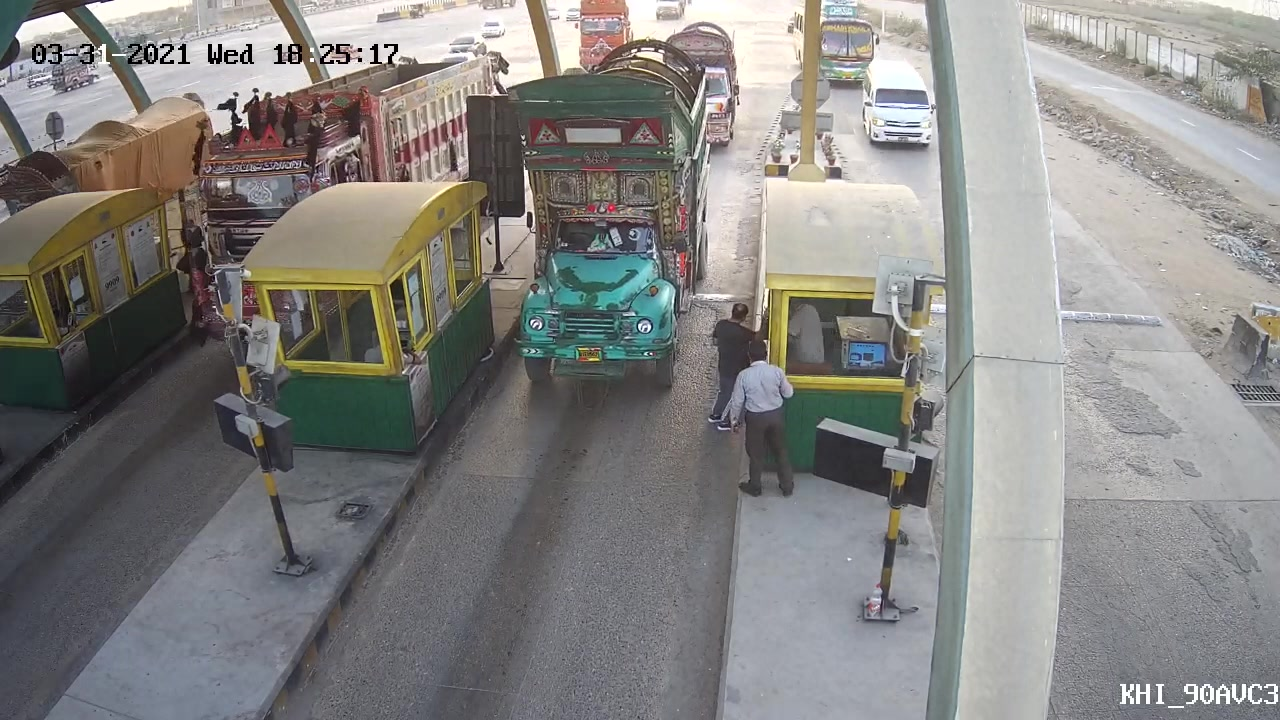F5: (502, 36, 719, 390)
